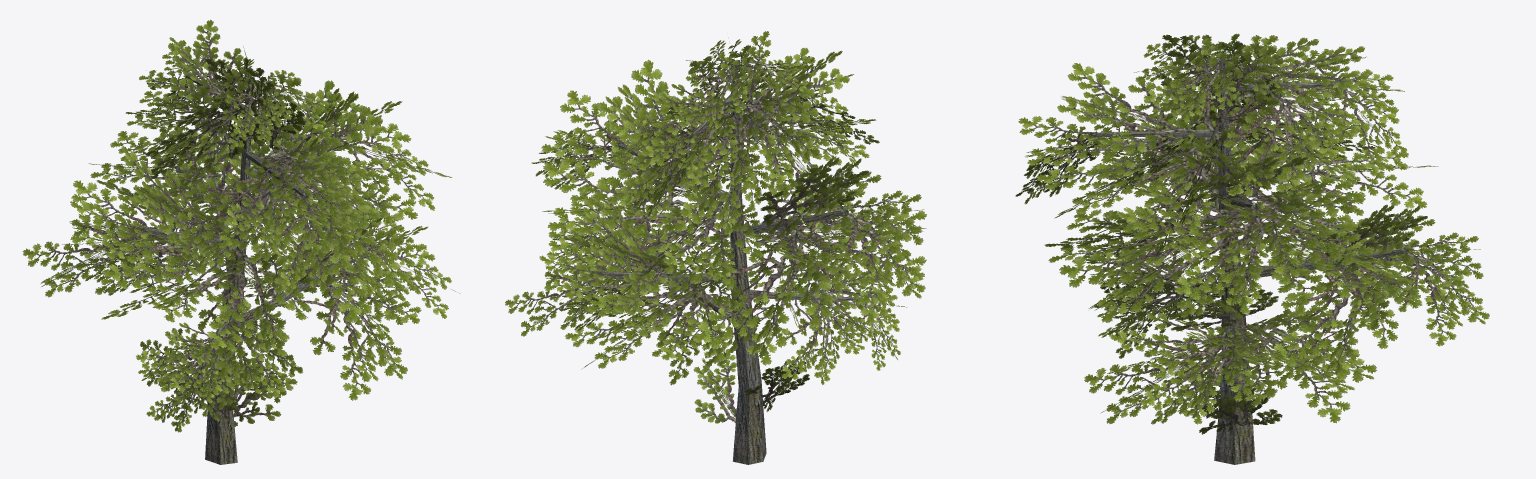
The model's file is oak.glb.
3 renders of one model, left to right at view 1: azimuth 30°, elevation 25°; view 2: azimuth 150°, elevation 25°; view 3: azimuth 270°, elevation 25°, orthographic. The views are drawn at different scales.
Parts seen in each view (by area): view 1: oak_part0; view 2: oak_part0; view 3: oak_part0.
Part boxes in pixels (left/top/right/bottom): oak_part0: left=22, top=19, right=460, bottom=464; oak_part0: left=505, top=31, right=926, bottom=464; oak_part0: left=1015, top=33, right=1489, bottom=464.
Bounding box in the file's own units: 5.55 × 5 × 5.48.
1 material, 1 textured.
